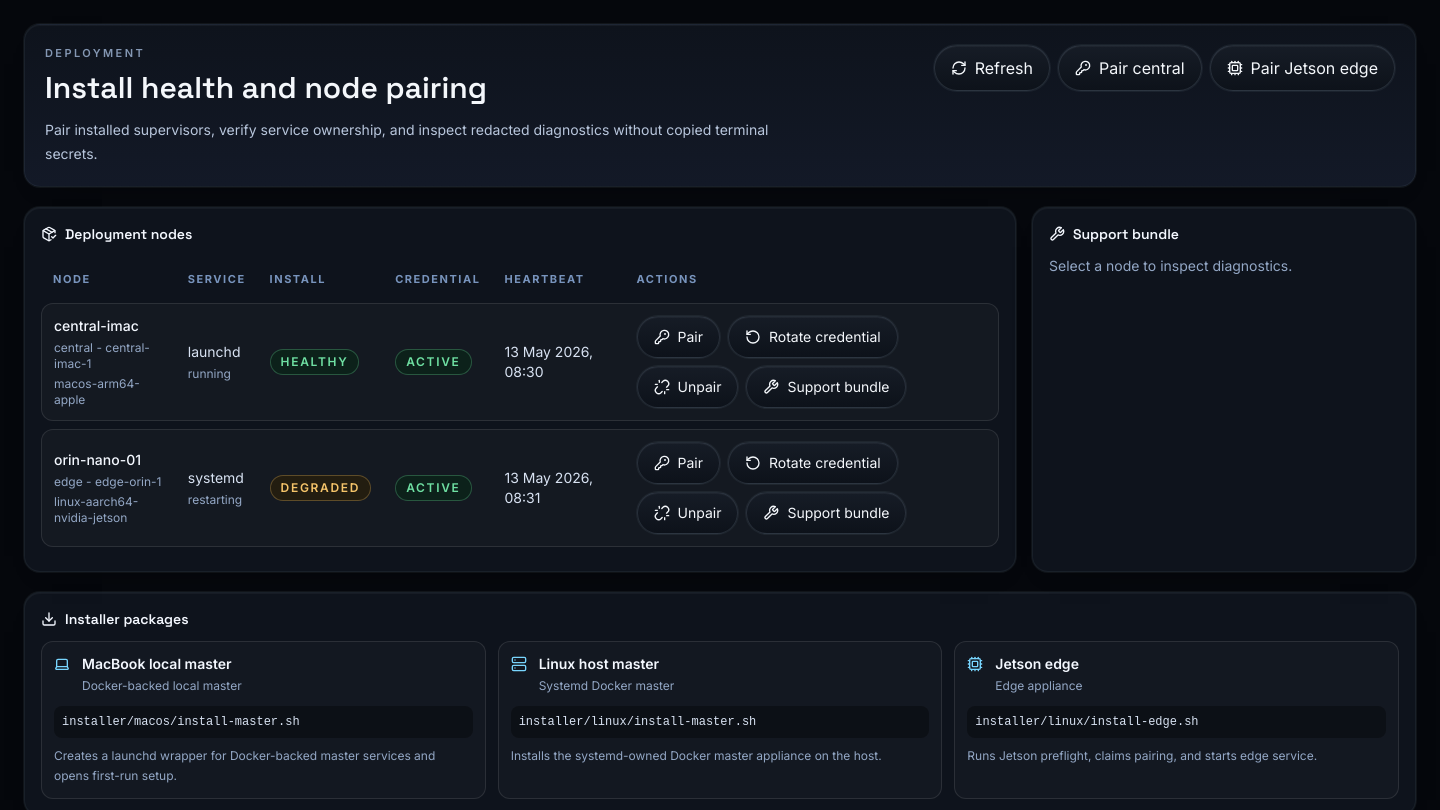
DeploymentPage › creates a Jetson edge record and pairing session from Deployment
Click the button "Pair Jetson edge" at (1302, 68), box [1210,45,1395,91]
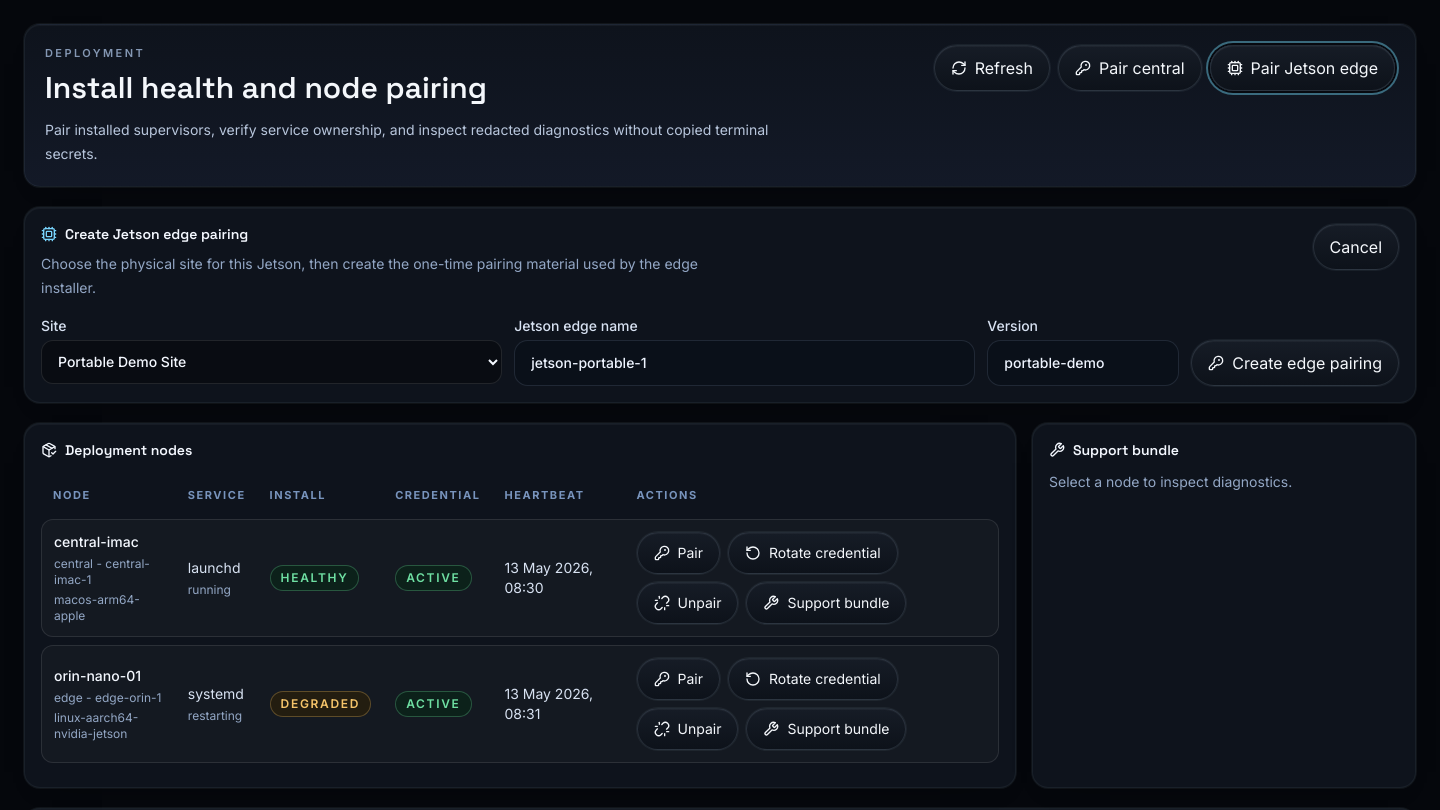
Type "orin1" into the field labelled "Jetson edge name" at (745, 362), box [514,340,975,386]
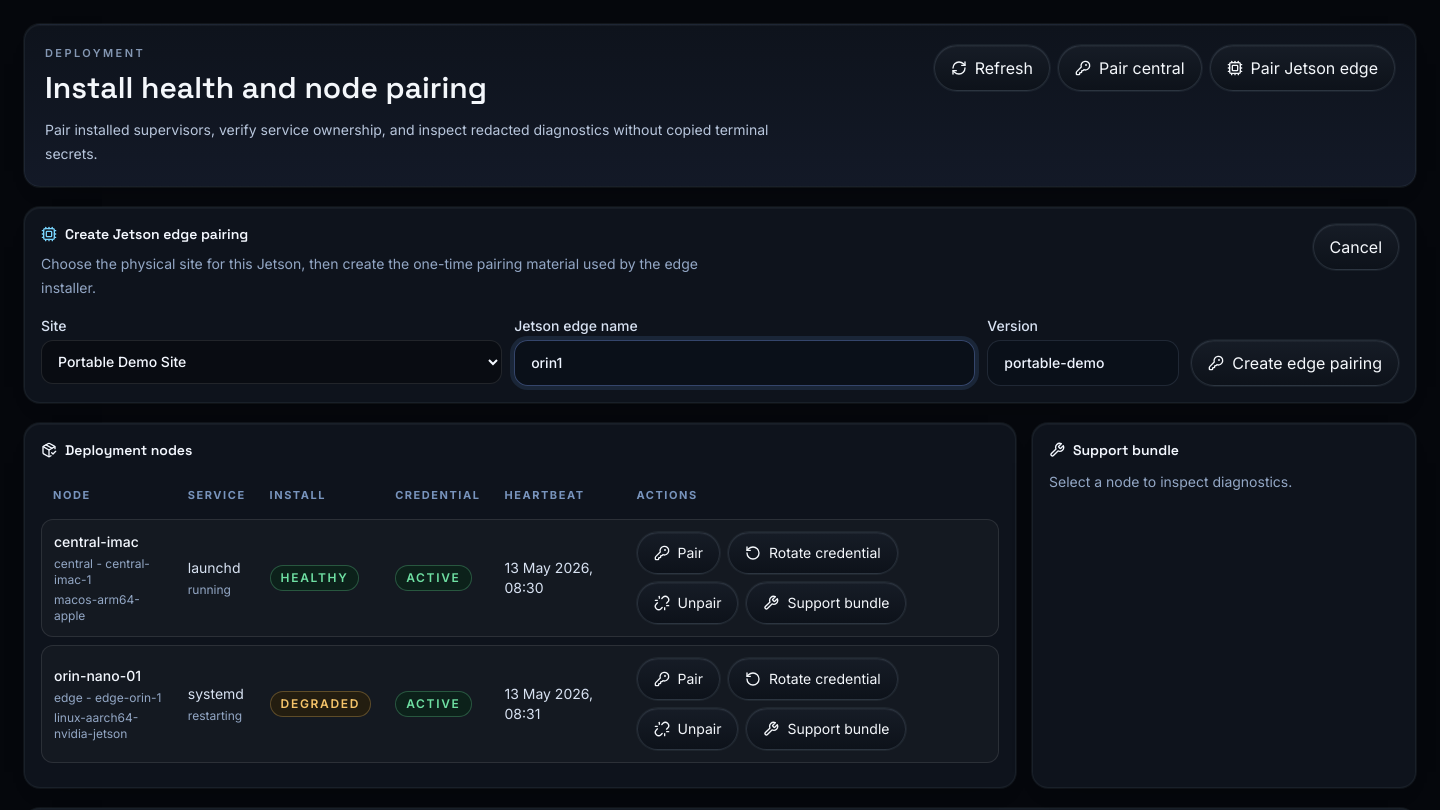
Click the button "Create edge pairing" at (1295, 362), box [1191,340,1399,386]
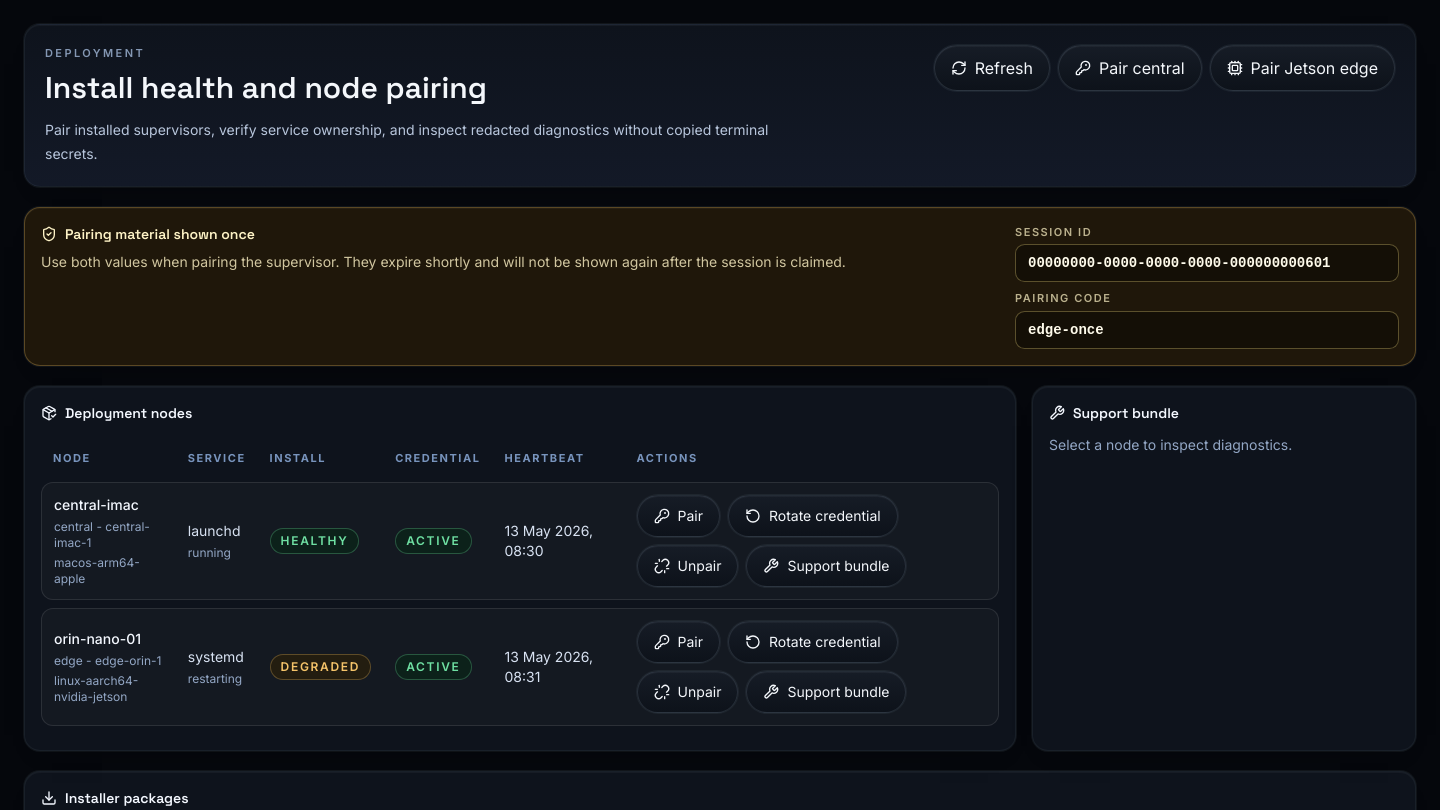
Result: the text "edge-once" is shown at [1015,310,1399,348]
